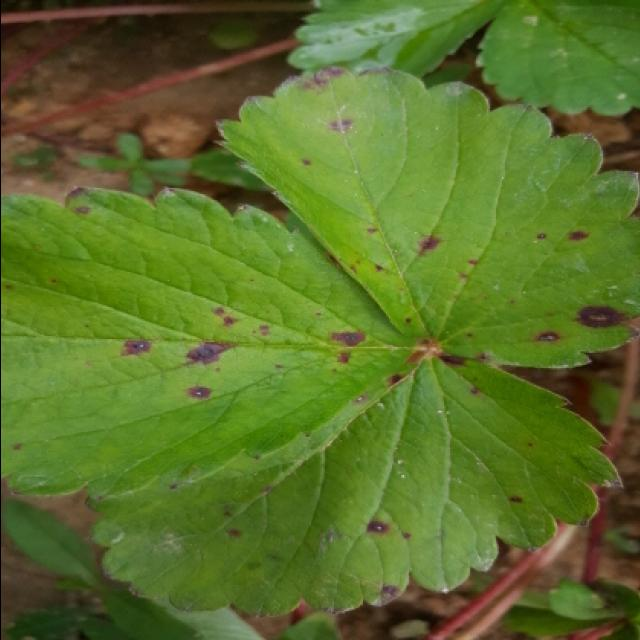Leaf Spot: (82, 350, 622, 623), (2, 184, 431, 503), (213, 63, 640, 369)
